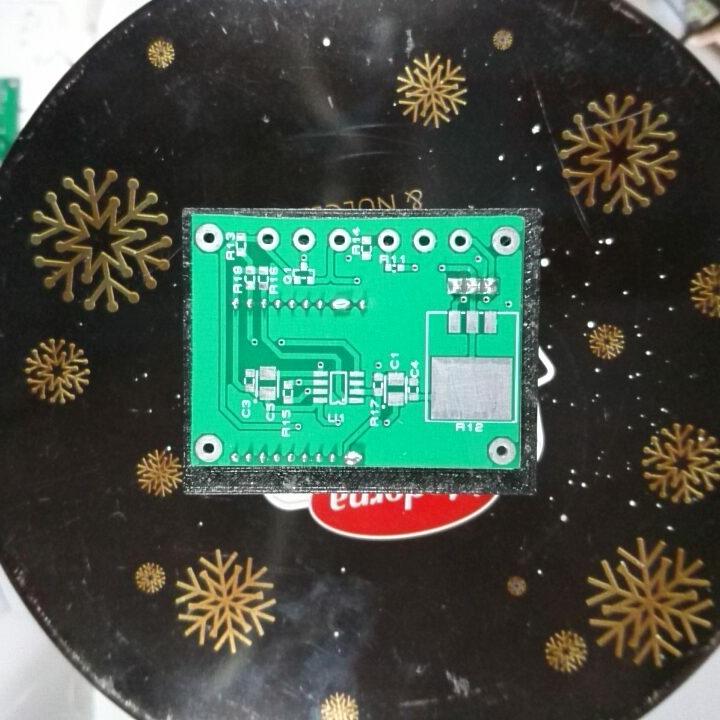F: (192, 220, 225, 254), (193, 431, 226, 465), (486, 433, 518, 466), (489, 225, 522, 256), (410, 226, 439, 257), (325, 226, 352, 253), (254, 226, 282, 252), (374, 227, 401, 253), (448, 228, 474, 254), (289, 227, 316, 252)
P: (329, 293, 353, 315), (340, 449, 366, 466)
